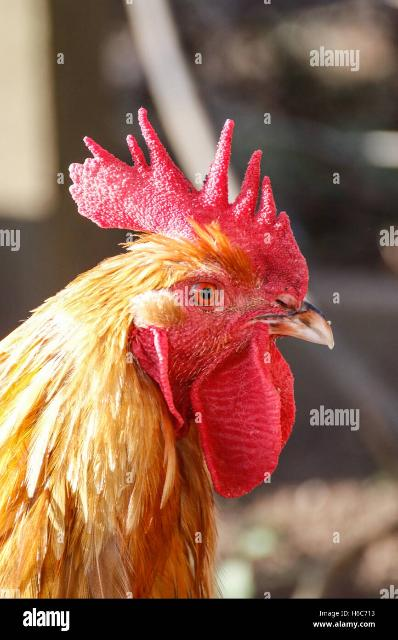Chicken: (2, 105, 338, 597)
